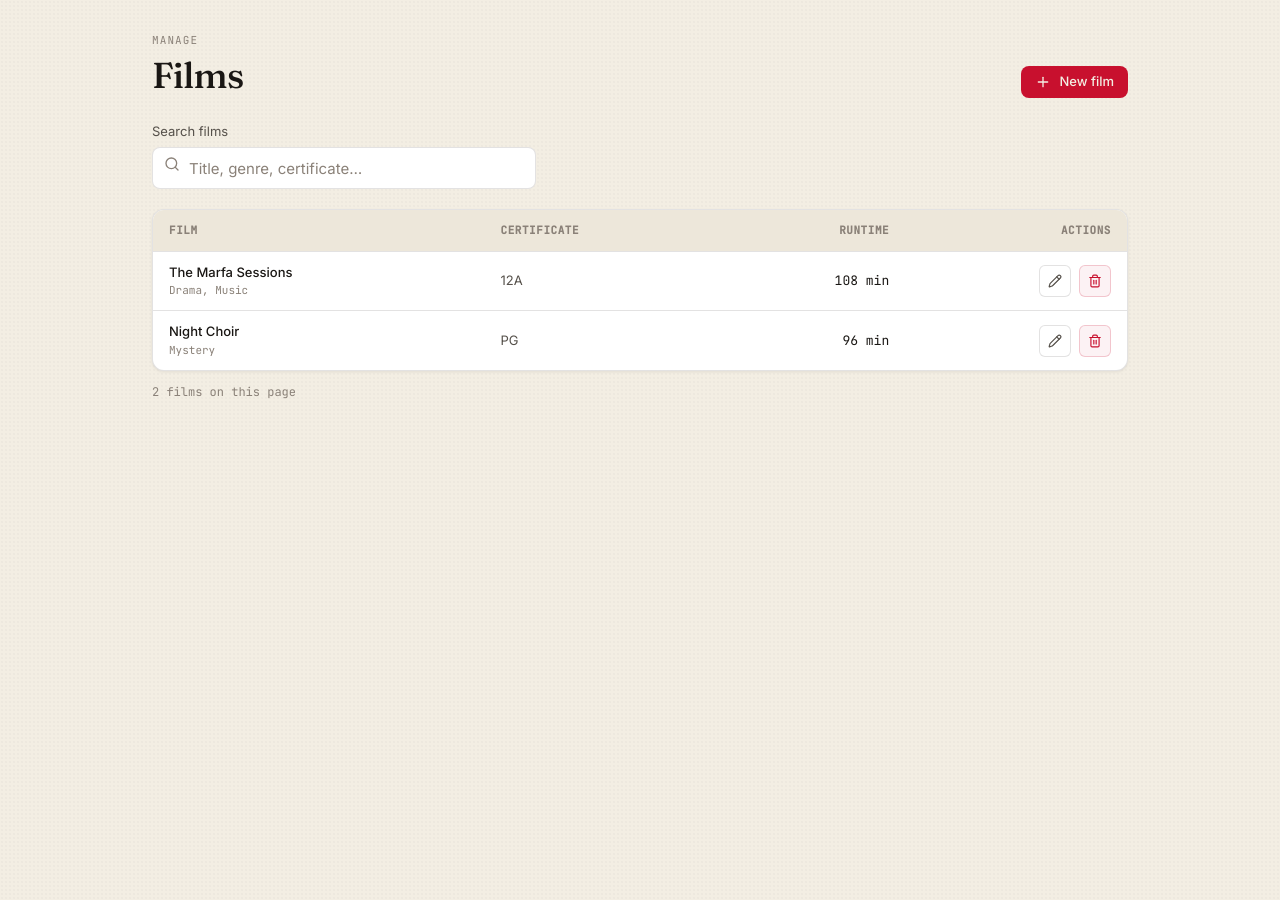
Test: AdminFilmsPage › opens and cancels the delete confirmation modal
The width and height of the screenshot is (1280, 900).
Expected: the text "The Marfa Sessions" is shown, [169, 264, 292, 280]
Click the button titled "Delete film" in the row of "The Marfa Sessions" at [1095, 281], box [1079, 265, 1111, 297]
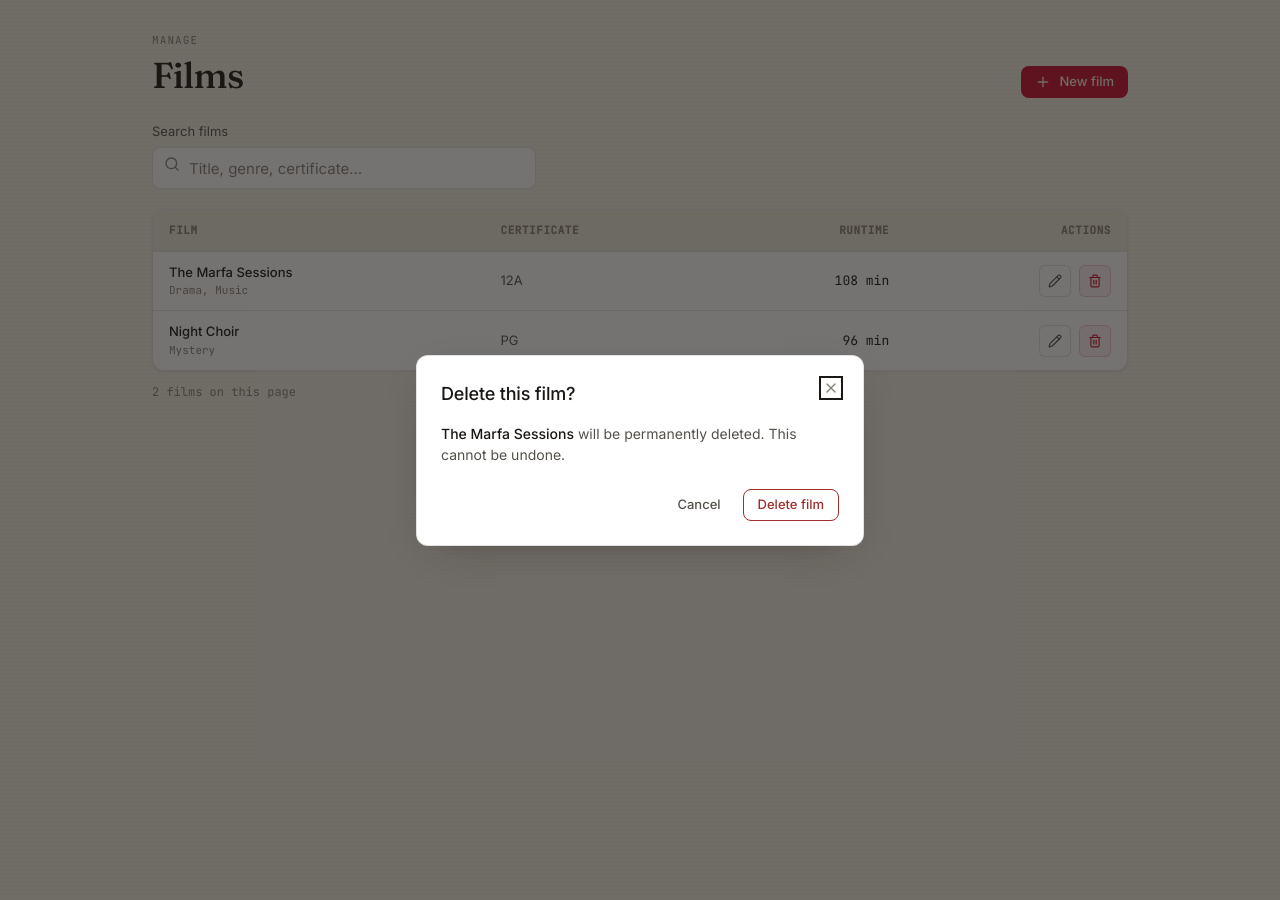
Now the dialog is shown, box [416, 354, 864, 546]
Click the button "Cancel" at [699, 504], box [663, 488, 735, 520]
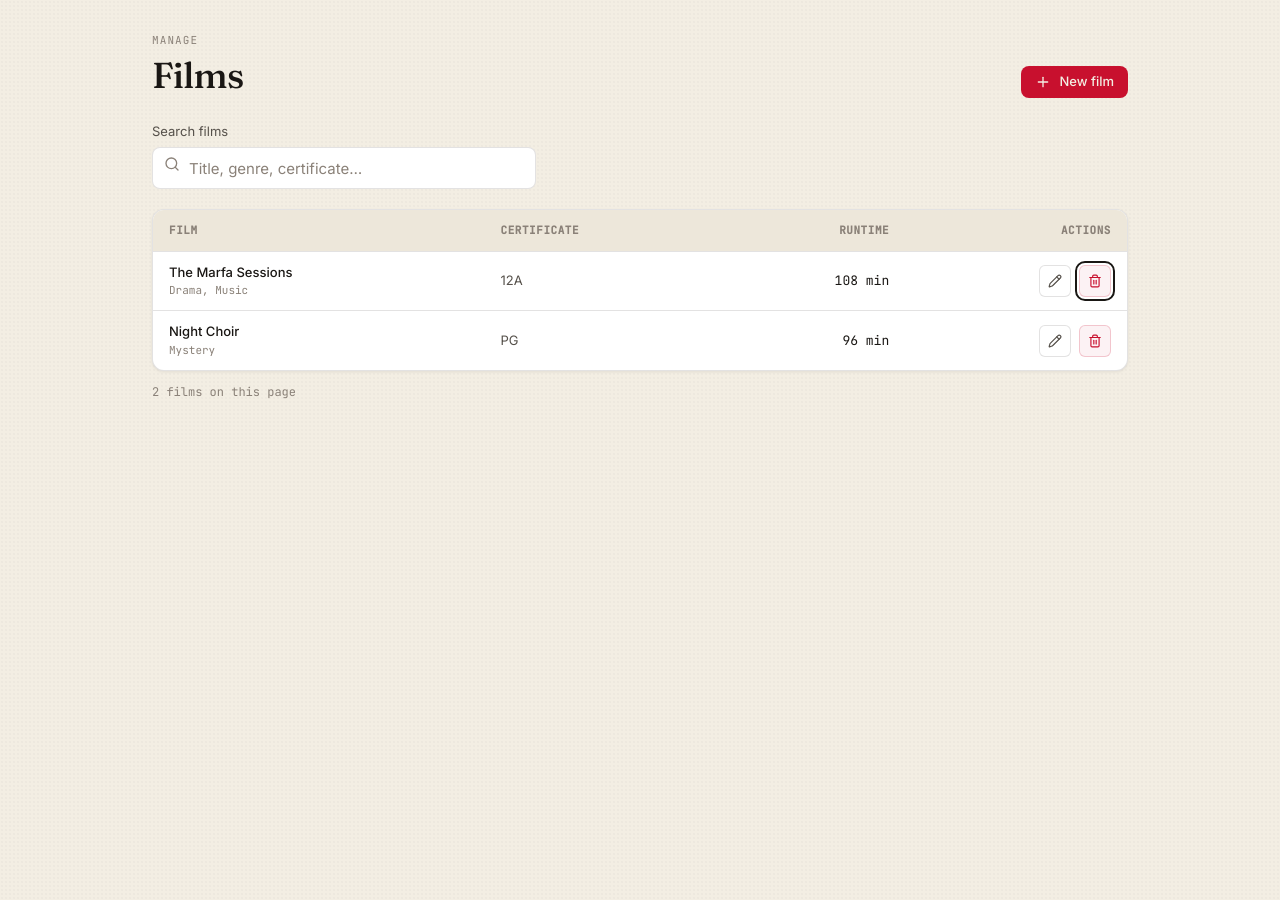
Now the dialog is gone
